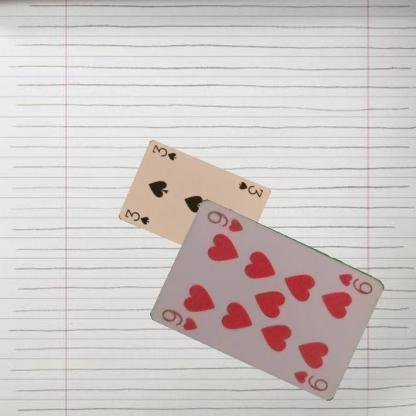3s: (235, 179, 264, 199), (122, 207, 150, 226)
9h: (158, 306, 200, 332), (336, 270, 374, 296)
